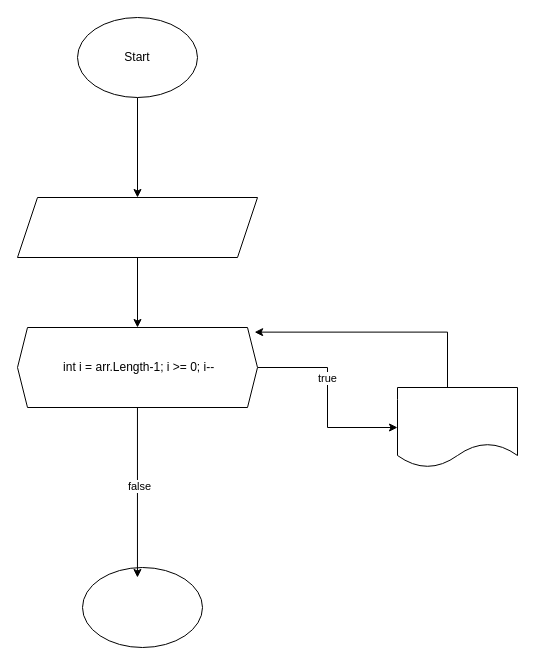
This 535x665 diagram has some shape labels left out. Each missing label, with the centre of its shape:
arr[i]: (457,427)
string[] arr = { "kitab", "defter", "qelem" };: (137,227)
